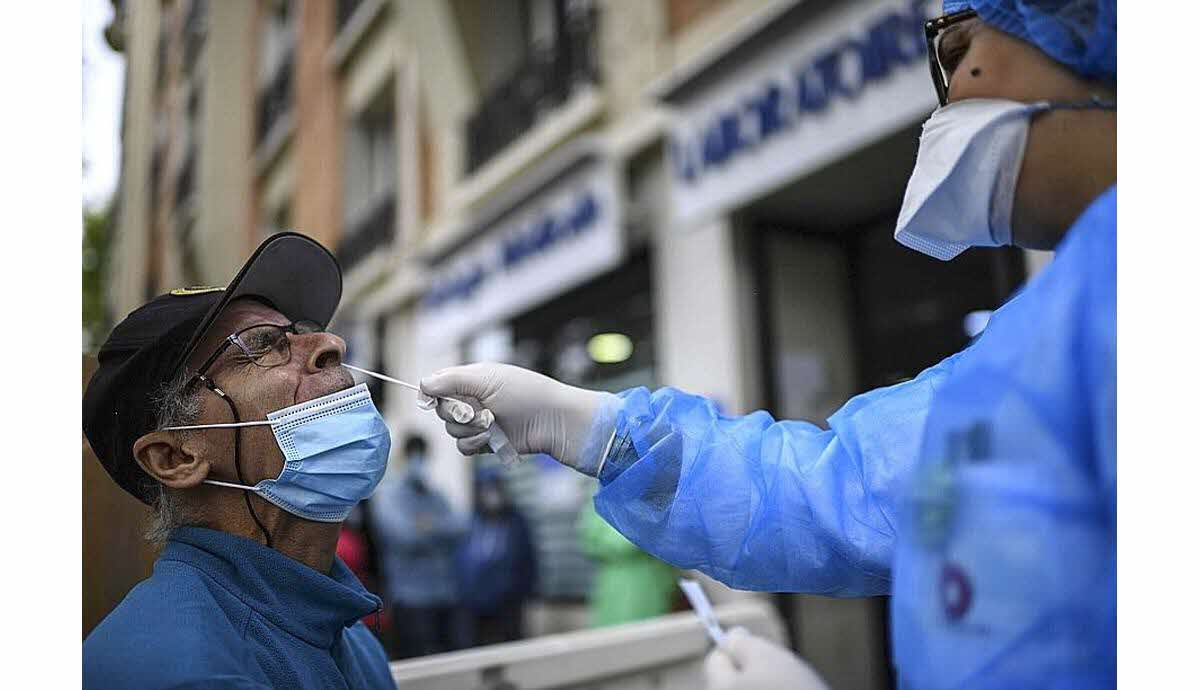with_incorrect_mask: (220, 316, 405, 527)
with_mask: (892, 29, 1084, 263)
